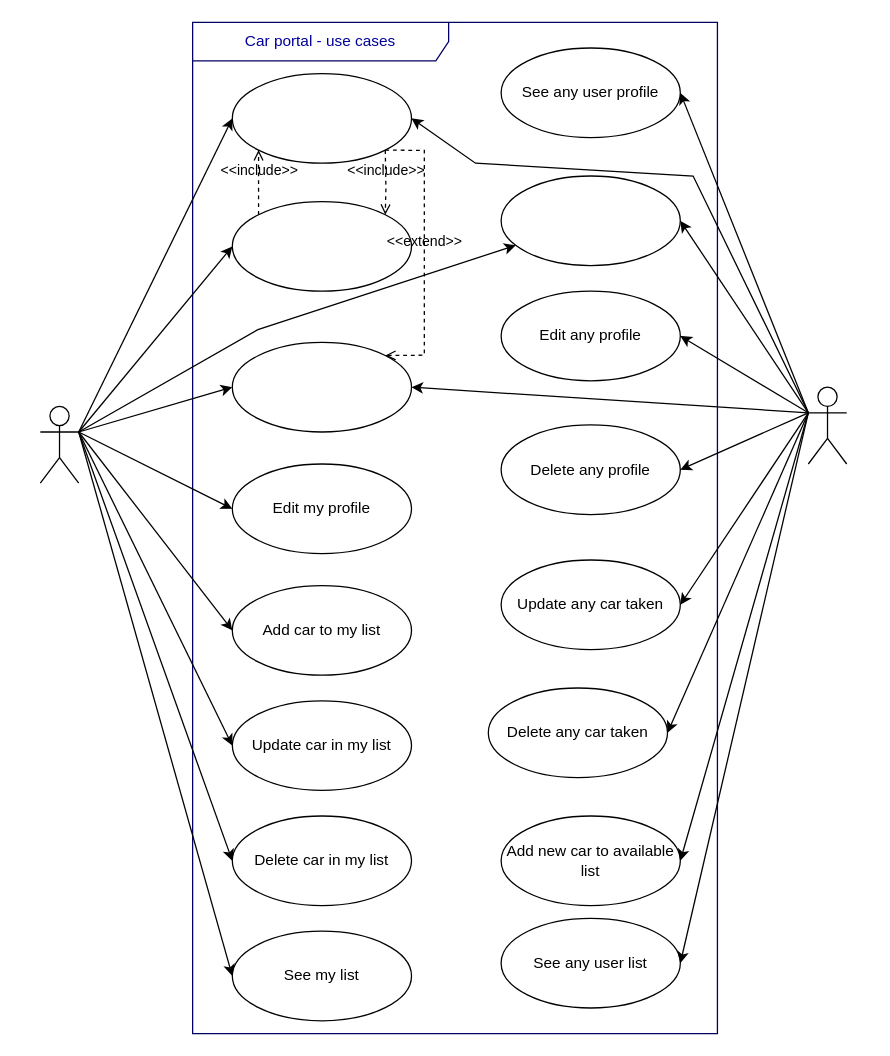
Image size: 890x1056. Some labels were removed from this diagram. Here are the shapes that lost their labels. From the top down, the box of each, then its label:
(231, 72, 412, 163): Login
(500, 175, 680, 266): See detailed car data
(231, 200, 412, 291): Signup
(231, 341, 412, 432): See the available cars
(39, 405, 79, 483): Client User
(807, 386, 847, 464): Admin User
